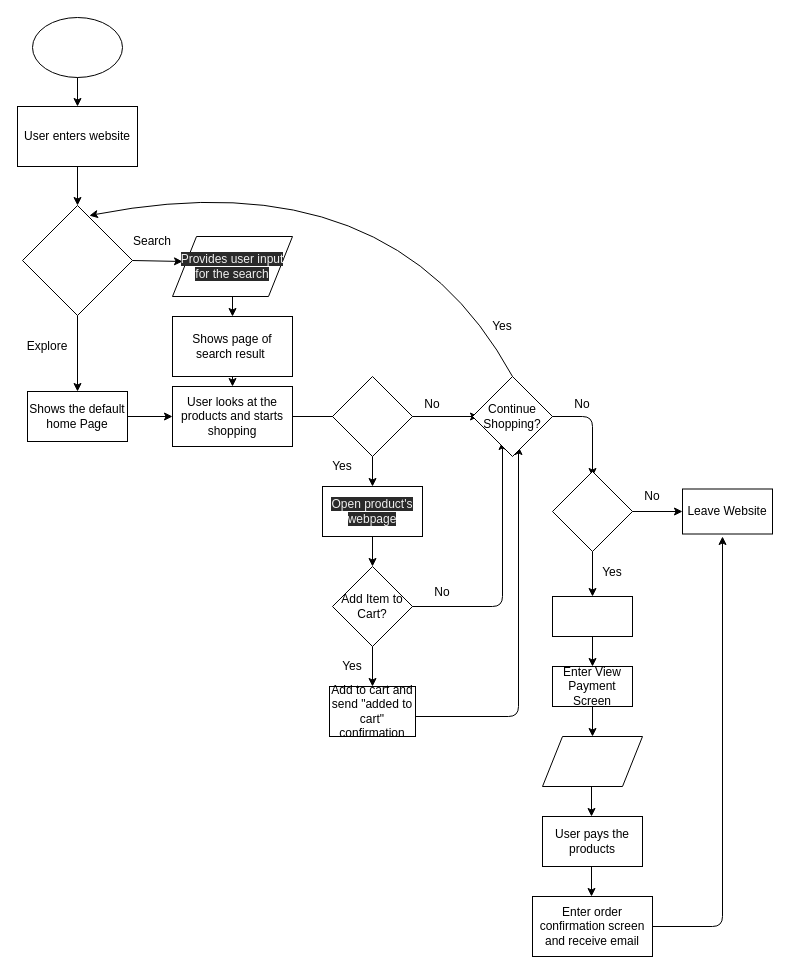
Some shapes in this 790 by 974 pixel diagram are drawn without their labels. Each missing label, with the centre of its shape:
Enter View Cart Screen: pixel 592 616
Proceed to checkout?: pixel 592 511
Read Payment Info: pixel 592 761
Search product or Explore page?: pixel 77 260
Start: pixel 77 47
View Item?: pixel 372 416
